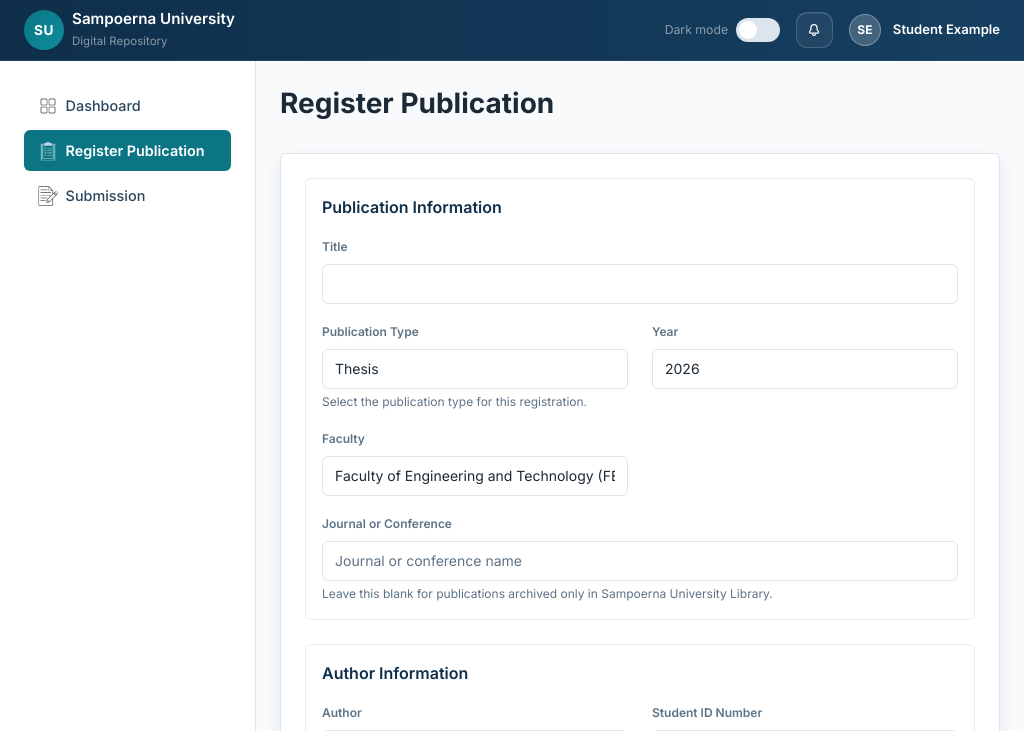
Test: StudentRegistrationNewPage › shows client-side validation errors before submit
This screenshot has width=1024, height=731.
Clear the field labelled "Title" at (640, 284), box [322, 264, 958, 304]
(page scrolled)
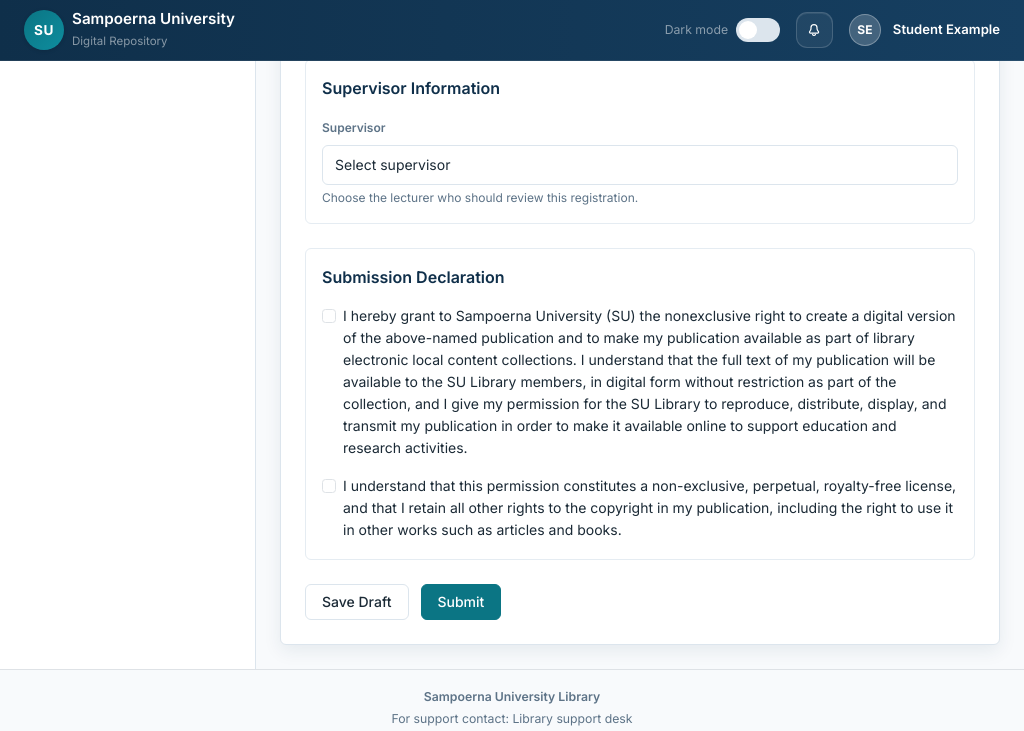
Click the button "Submit" at (461, 602), box [420, 584, 501, 620]
(page scrolled)
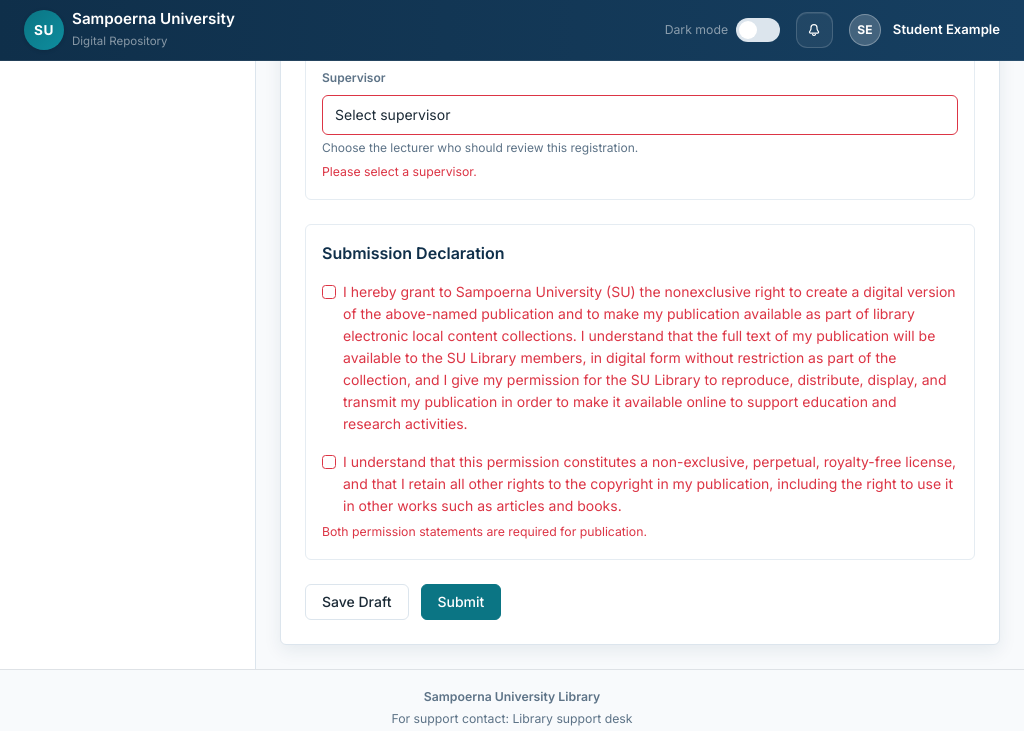
Expected: the text "Please select a supervisor." is shown, [322, 164, 477, 179]
Expected: the text "Both permission statements are required for publication." is shown, [322, 524, 647, 539]
